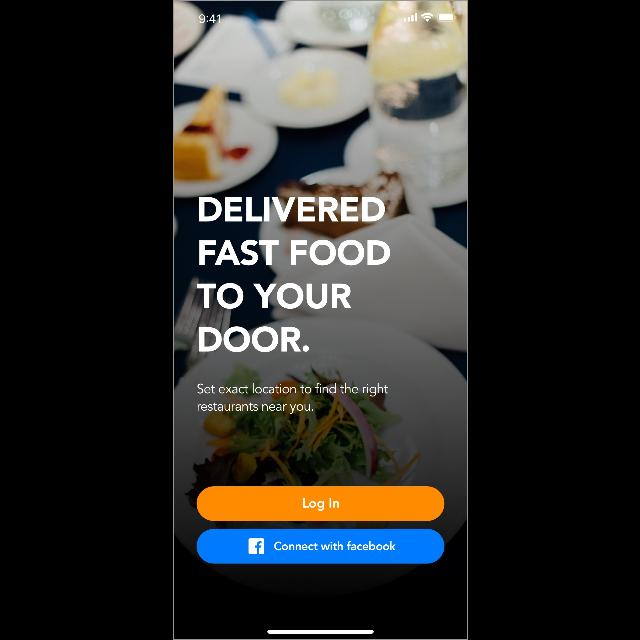backgroundimage: (172, 1, 468, 640)
text: (196, 197, 390, 353), (196, 384, 388, 414)
textbutton: (196, 486, 444, 522), (196, 528, 444, 564)
uppertaskbar: (198, 12, 456, 24)
